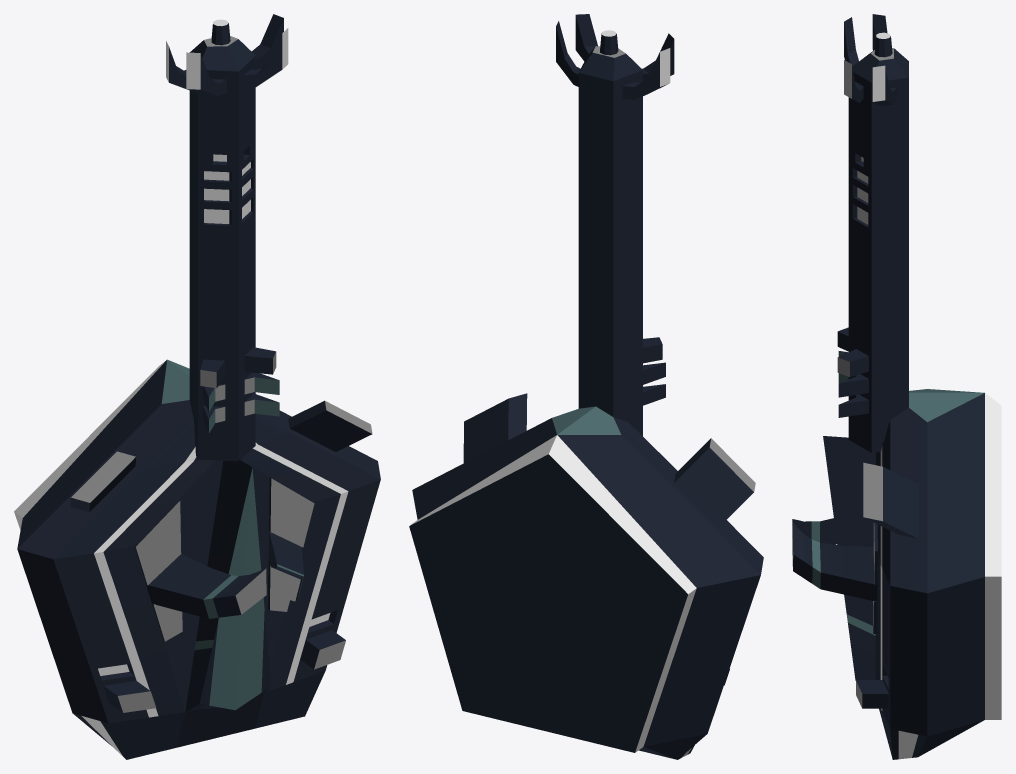
File: Spider_Turret_V2.fbx
3 views of the same model, side by side, from view 1: azimuth 30°, elevation 25°; view 2: azimuth 150°, elevation 25°; view 3: azimuth 270°, elevation 25° (orthographic). The views are drawn at different scales.
Parts seen in each view (by area): view 1: Cylinder.006; view 2: Cylinder.006; view 3: Cylinder.006.
Part boxes in pixels (left/top/right/bottom): Cylinder.006: left=14, top=14, right=380, bottom=759; Cylinder.006: left=409, top=14, right=763, bottom=759; Cylinder.006: left=792, top=14, right=1001, bottom=759.
Bounding box in the file's own units: 389 × 741 × 206.
